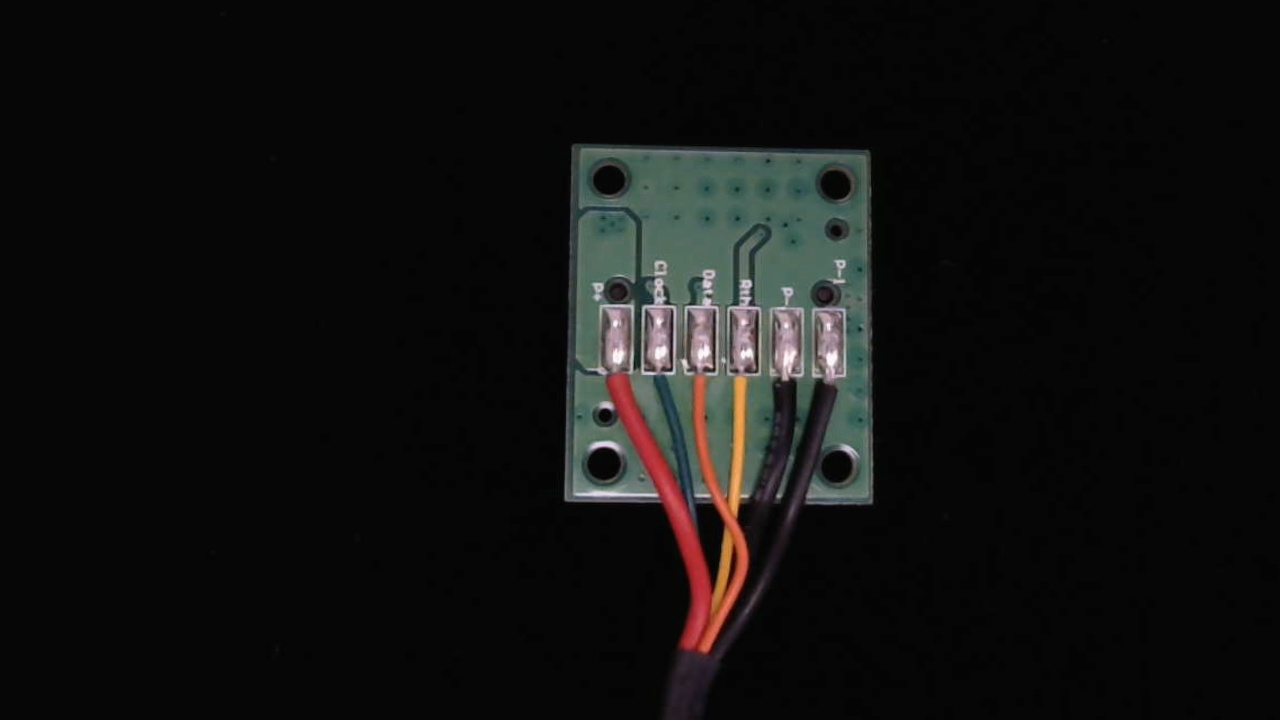Black: (767, 356, 805, 436)
Black1: (818, 357, 851, 433)
Green: (643, 354, 675, 421)
Orange: (685, 355, 721, 434)
Red: (600, 354, 635, 428)
Yellow: (723, 356, 761, 437)
